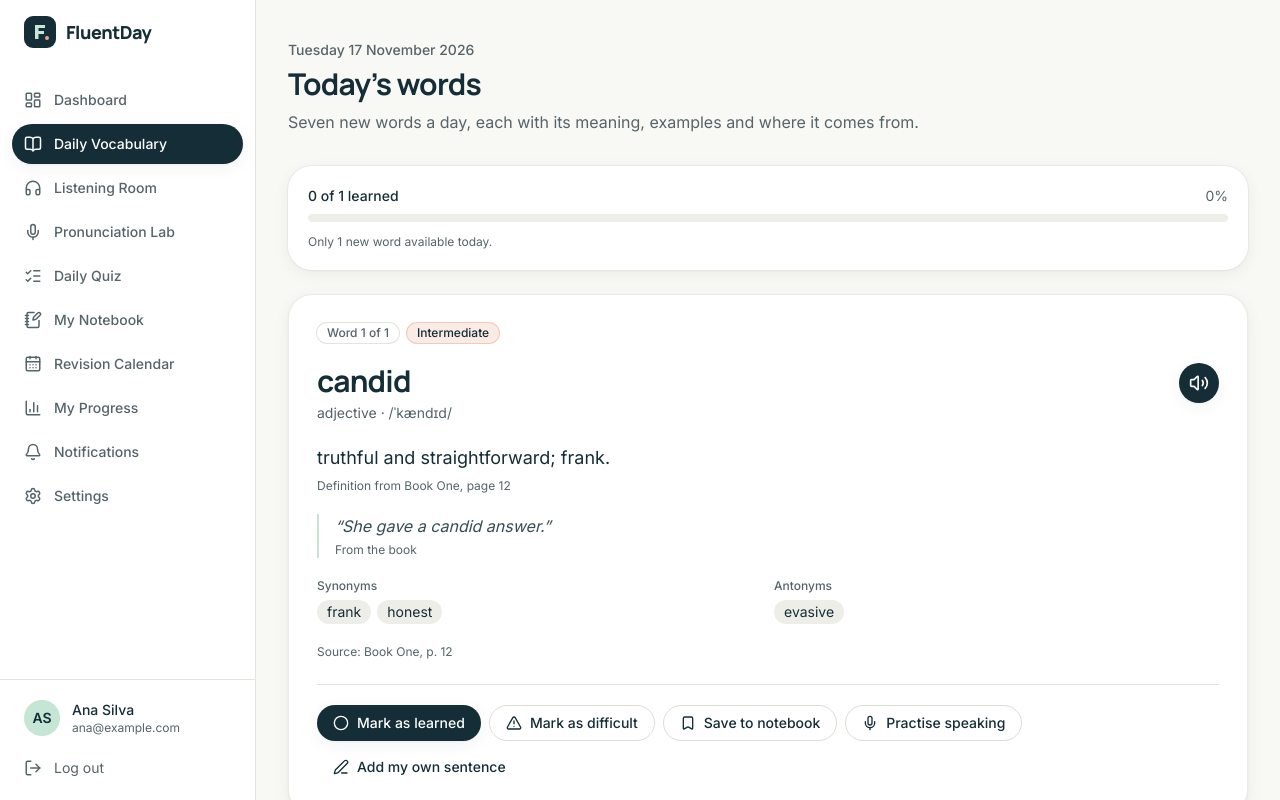
it: daily vocabulary › marks a word as learned and updates the progress bar
The width and height of the screenshot is (1280, 800).
Click the button "Mark as learned": (399, 723) [317, 705, 481, 741]
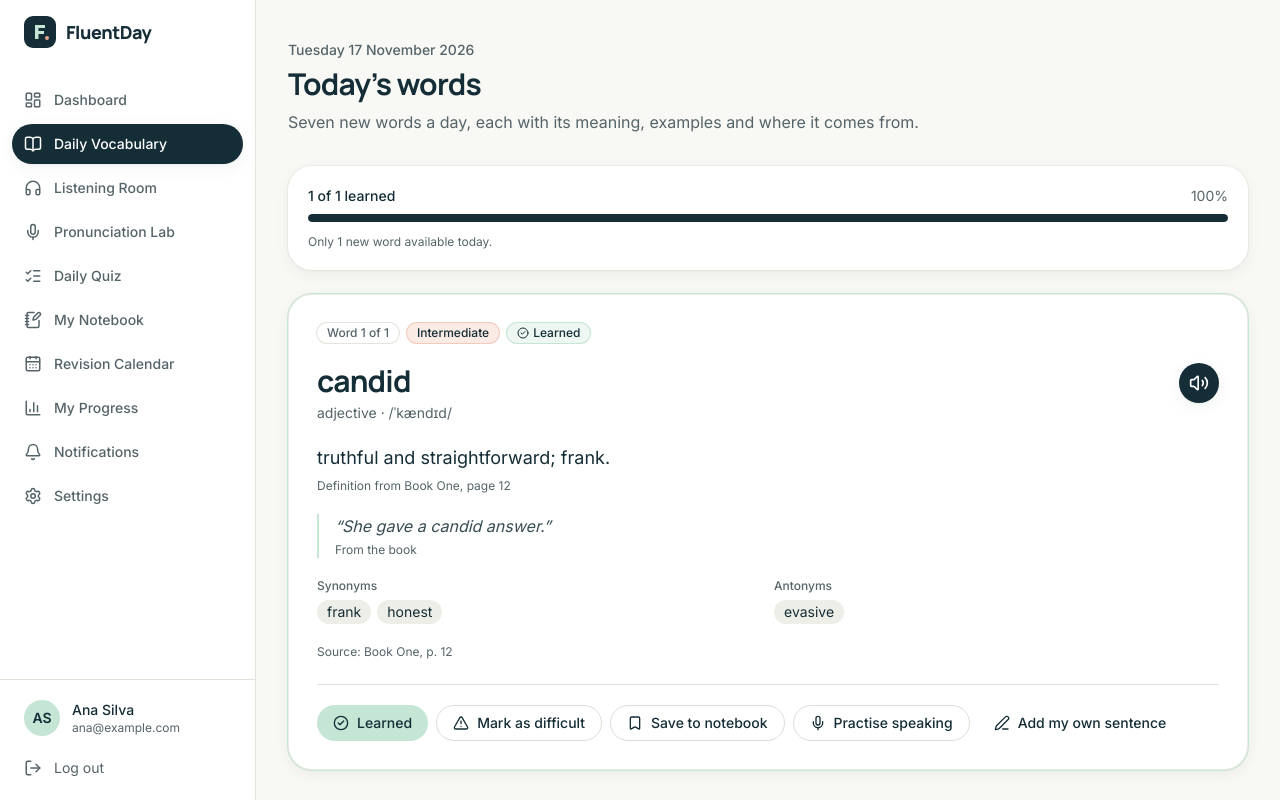
Expected: the text "1 of 1 learned" is shown, [308, 186, 395, 206]
